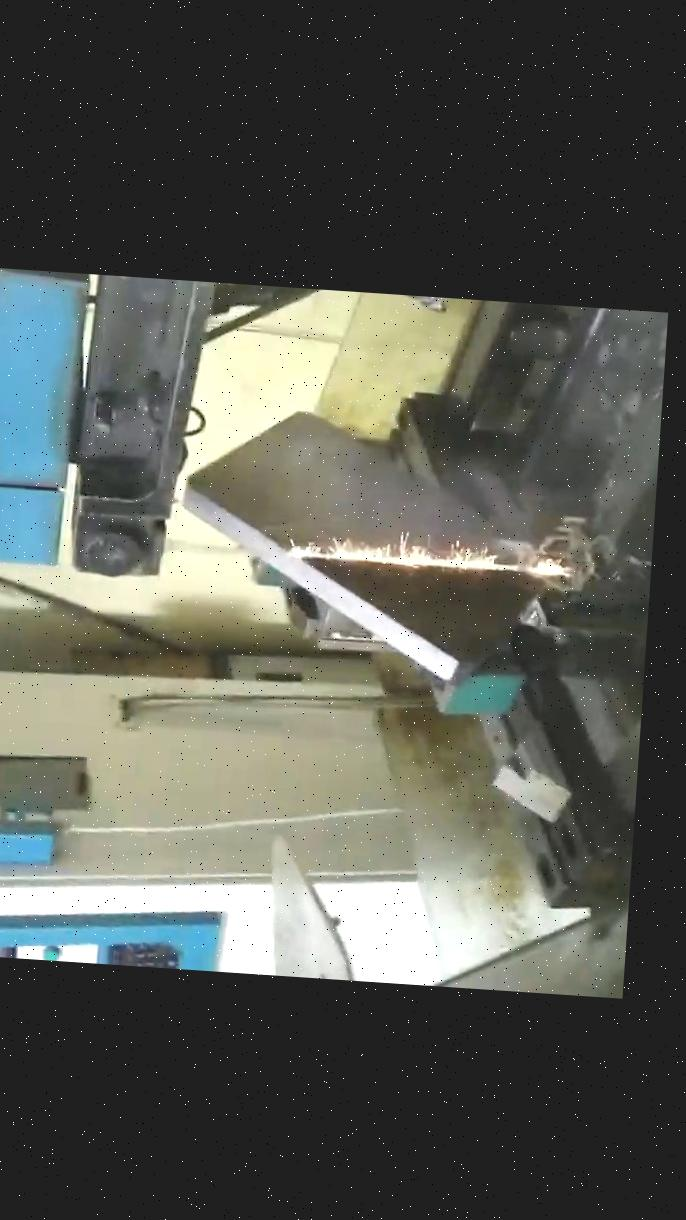fire: (122, 477, 618, 588)
